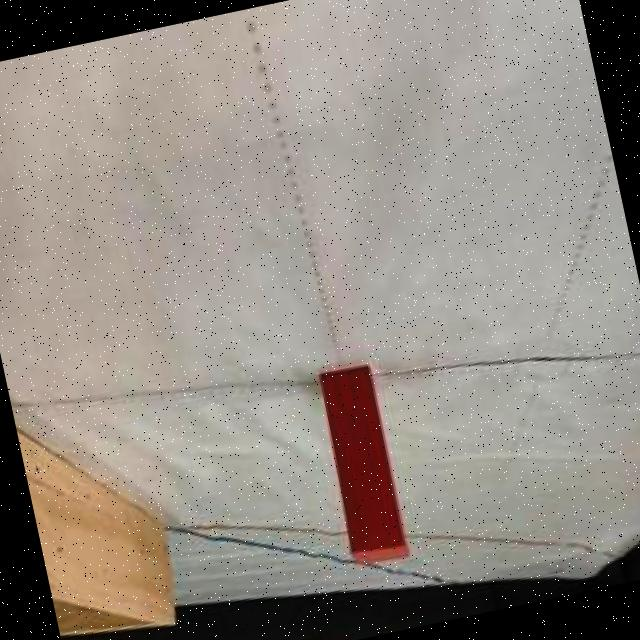redbox: (312, 361, 414, 570)
